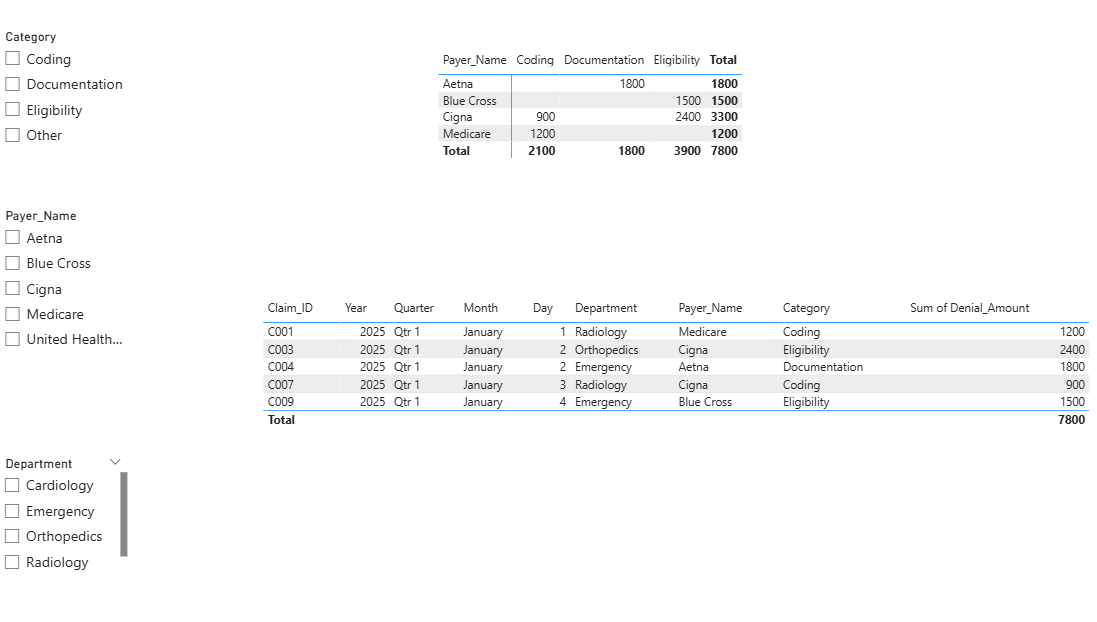

What the dashboard file says about the page in this screenshot:
{"tool":"powerbi","page":{"name":"Denial Deep Dive","canvas":[1280,720],"ordinal":1},"visuals":[{"type":"pivotTable","fields":{"Rows":["Payers.Payer_Name"],"Columns":["DenialReasons.Category"],"Values":["Claims.Total Denied Amount"]},"box":[501.2,57.8,627.1,194.1],"z":0},{"type":"tableEx","fields":{"Values":["Claims.Claim_ID","Claims.Claim_Date.Variation.Date Hierarchy.Year","Claims.Claim_Date.Variation.Date Hierarchy.Quarter","Claims.Claim_Date.Variation.Date Hierarchy.Month","Claims.Claim_Date.Variation.Date Hierarchy.Day","Claims.Department","Payers.Payer_Name","DenialReasons.Category","Sum(Denials.Denial_Amount)"]},"box":[300.7,340.6,965.1,379.1],"z":1000},{"type":"slicer","fields":{"Values":["DenialReasons.Category"]},"box":[0,34.7,156.8,379.1],"z":2000},{"type":"slicer","fields":{"Values":["Payers.Payer_Name"]},"box":[0,237.8,156.8,242.9],"z":3000},{"type":"slicer","fields":{"Values":["Claims.Department"]},"box":[0,520.5,156.8,146.5],"z":4000}]}

Visuals, with their boxes on the page's 1280x720 design canvas (x1, y1, x2, y2). These are canvas units, not pixel positions in the 1097x622 screenshot, which may show the page scaled, cropped or inside an application window:
pivotTable - Payers.Payer_Name x DenialReasons.Category: (501, 58, 1128, 252)
tableEx - Claims.Claim_ID x Claims.Claim_Date.Variation.Date Hierarchy.Year: (301, 341, 1266, 720)
slicer - DenialReasons.Category: (0, 35, 157, 414)
slicer - Payers.Payer_Name: (0, 238, 157, 481)
slicer - Claims.Department: (0, 520, 157, 667)
